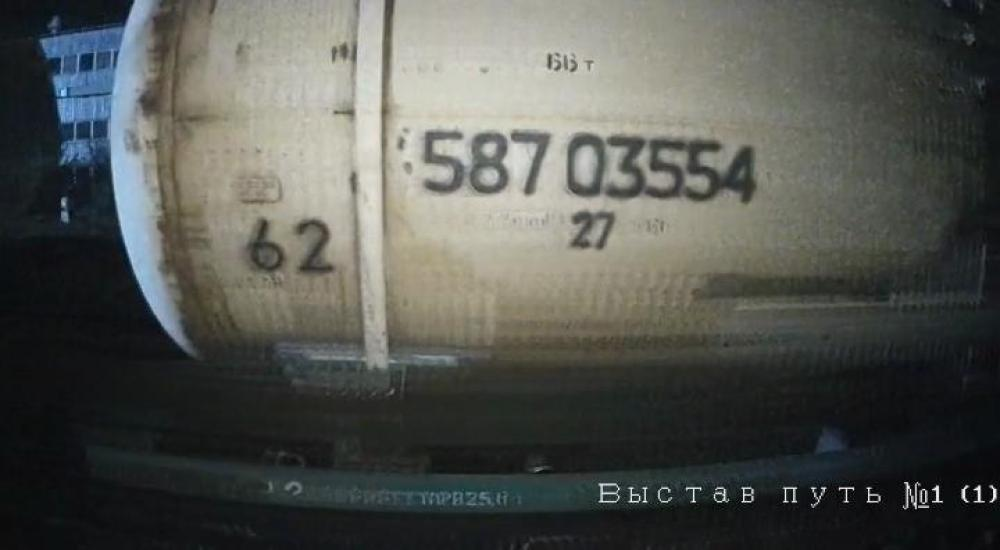Wagon-number: (416, 126, 762, 210)
